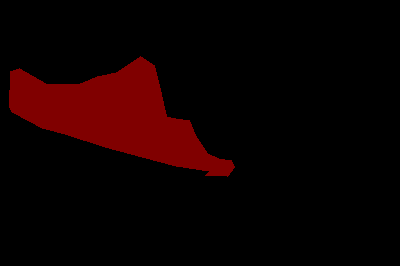fire: (9, 56, 234, 176)
